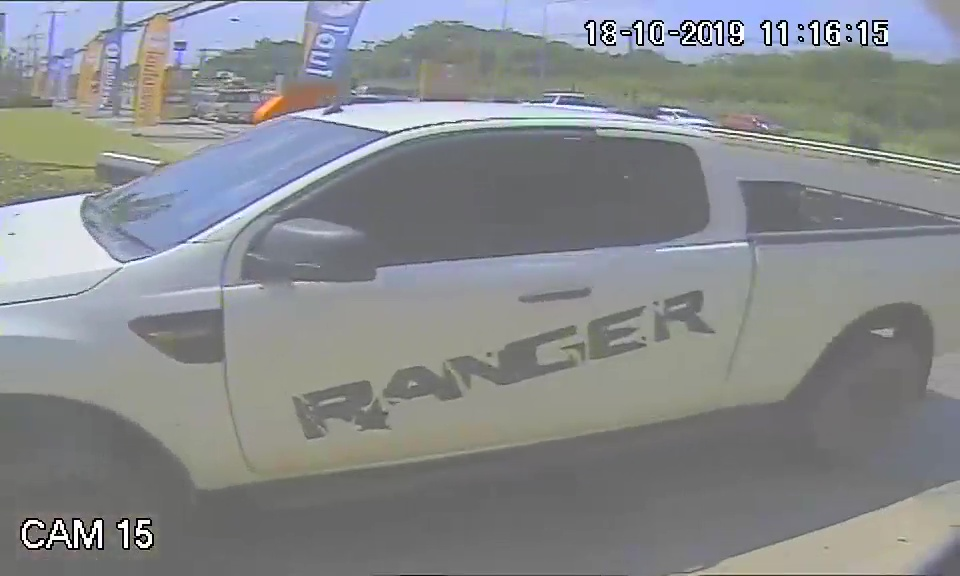pickup: (8, 99, 946, 478)
